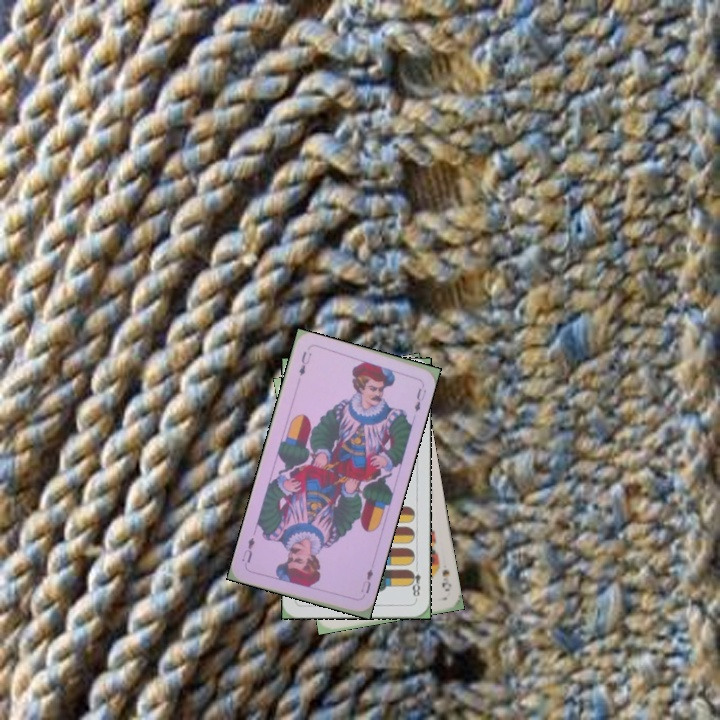E8: (406, 562, 423, 602)
EU: (357, 564, 376, 596), (295, 347, 314, 378)
S9: (432, 556, 454, 594)
